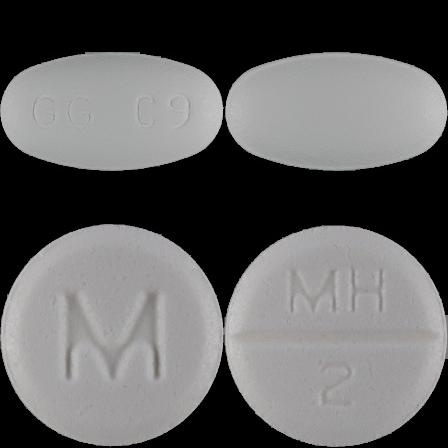54868-5430: (0, 0, 224, 224)
